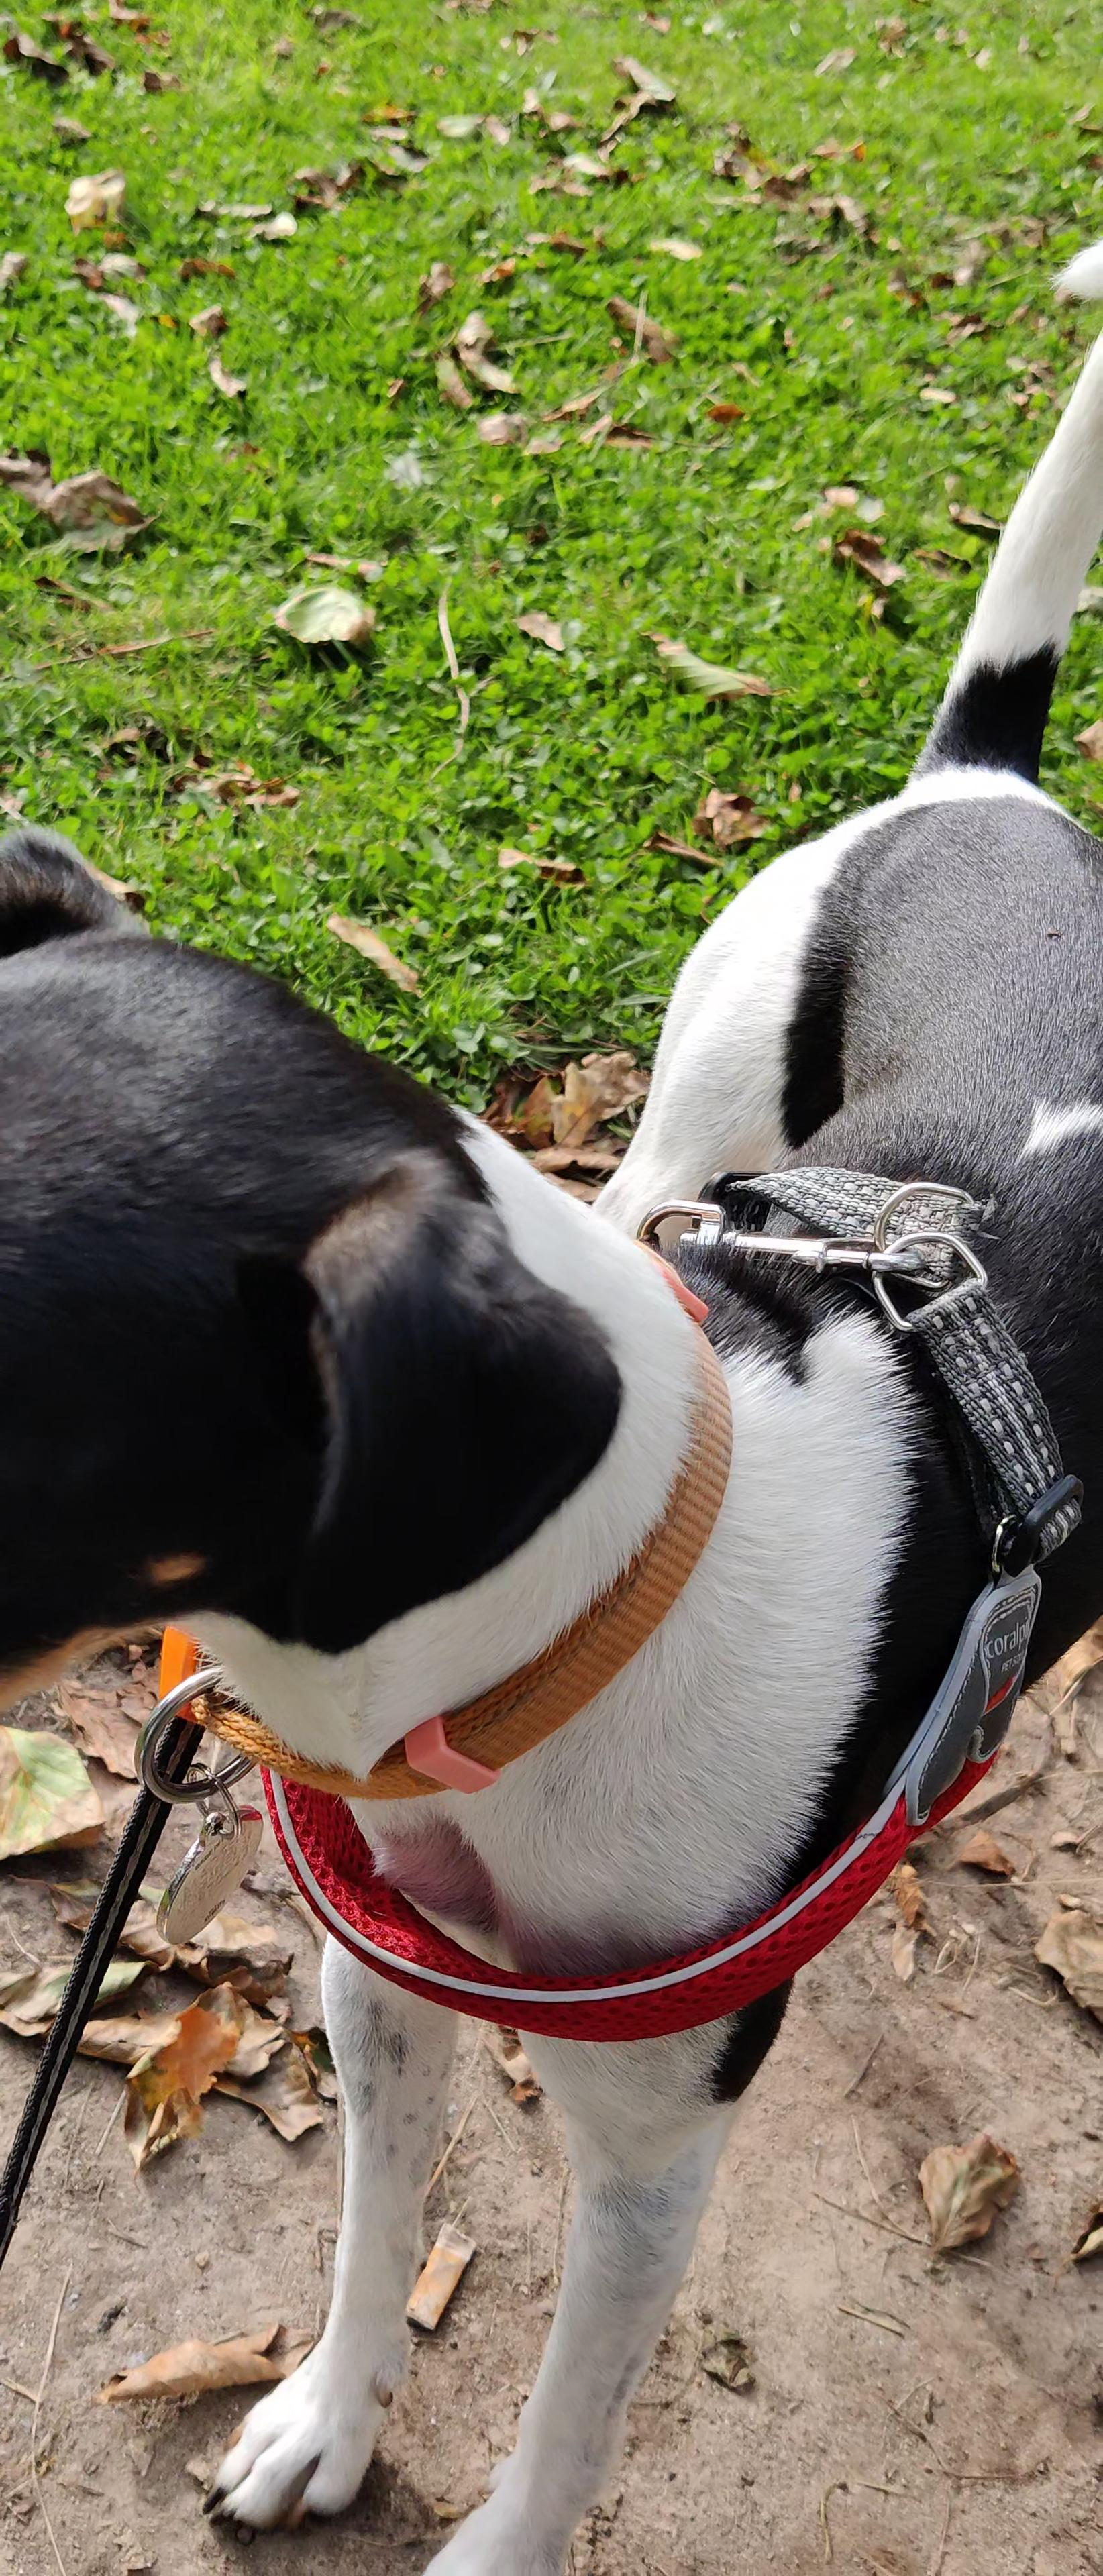Dog: (0, 232, 1103, 2576)
